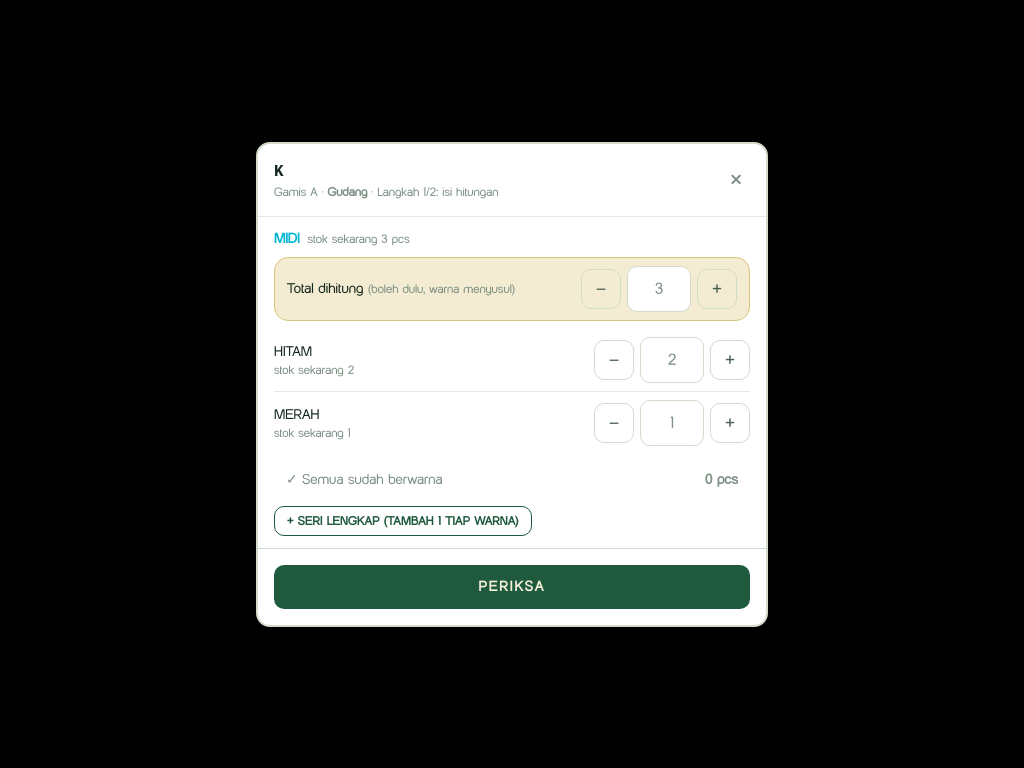
Test: ProductCountSheet › tombol Periksa nonaktif kalau jumlah warna melebihi total
Type "1" into the number field named "Total dihitung Midi" at point(659, 288), box [627,266,691,312]
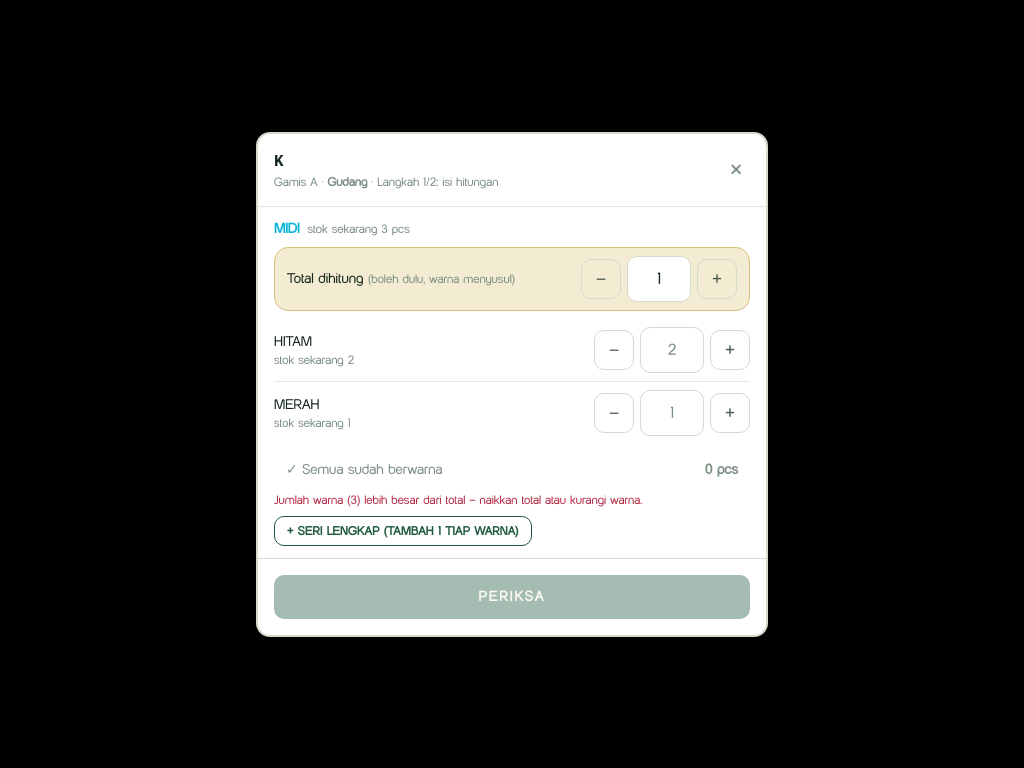
Expected: the button "Periksa" is disabled, [274,574,750,618]
